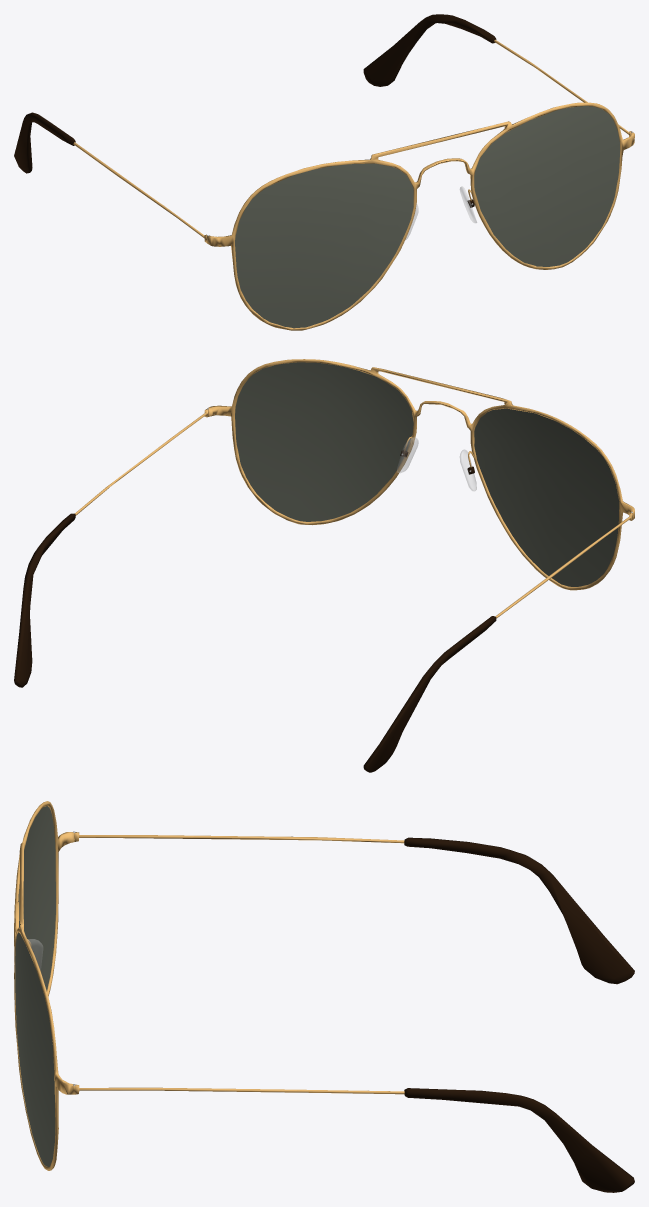
The model's file is aviatorglasses.glb.
The picture shows the model from 3 angles, top to bottom: view 1: azimuth 30°, elevation 25°; view 2: azimuth 150°, elevation 25°; view 3: azimuth 270°, elevation 25°; orthographic projection. The views are drawn at different scales.
Visible parts, largest first — view 1: Aviators_Glass tinted_0, Aviators_Gold metallic_0, Aviators_Black gloss_0; view 2: Aviators_Glass tinted_0, Aviators_Gold metallic_0, Aviators_Black gloss_0, Aviators_Transparent_0; view 3: Aviators_Glass tinted_0, Aviators_Black gloss_0, Aviators_Gold metallic_0.
Part boxes in pixels (x1=…): Aviators_Glass tinted_0: x1=235, y1=106, x2=620, y2=328; Aviators_Gold metallic_0: x1=73, y1=39, x2=634, y2=330; Aviators_Black gloss_0: x1=14, y1=14, x2=496, y2=207; Aviators_Glass tinted_0: x1=235, y1=362, x2=619, y2=586; Aviators_Gold metallic_0: x1=75, y1=359, x2=634, y2=618; Aviators_Black gloss_0: x1=14, y1=450, x2=496, y2=772; Aviators_Transparent_0: x1=397, y1=437, x2=476, y2=490; Aviators_Glass tinted_0: x1=15, y1=806, x2=55, y2=1166; Aviators_Black gloss_0: x1=404, y1=837, x2=634, y2=1192; Aviators_Gold metallic_0: x1=14, y1=801, x2=404, y2=1170.
Bounding box in the file's own units: 13.96 × 5.22 × 14.39.
